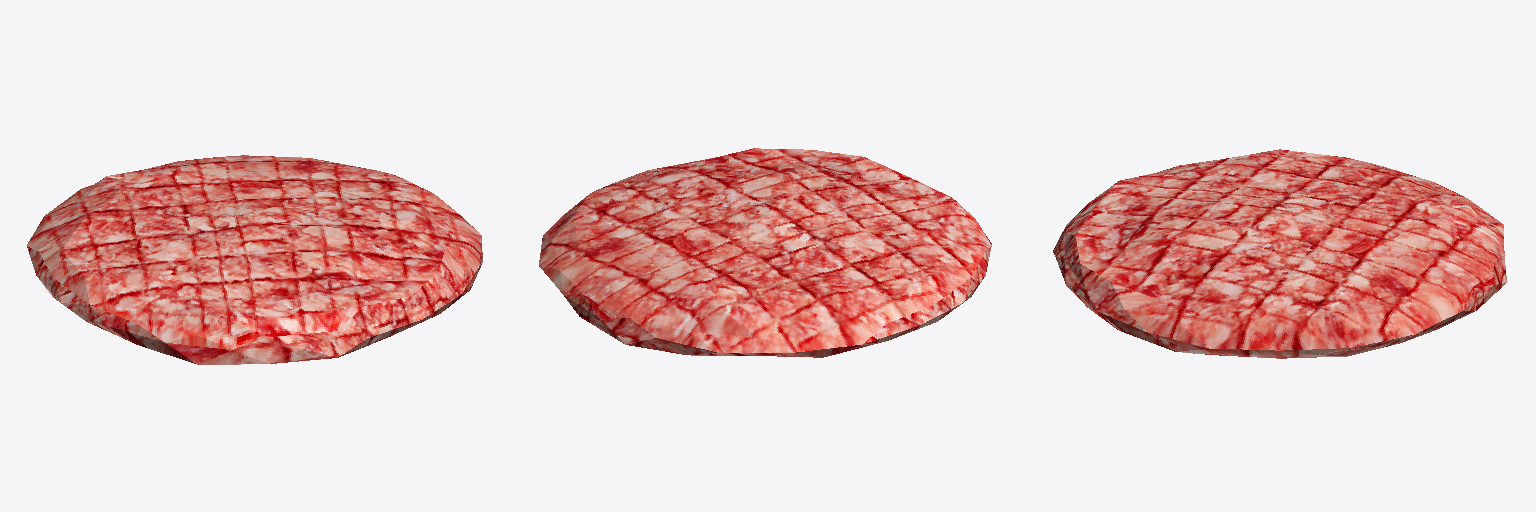
3 views of the same model, side by side, from view 1: azimuth 30°, elevation 25°; view 2: azimuth 150°, elevation 25°; view 3: azimuth 270°, elevation 25° (orthographic).
Parts seen in each view (by area): view 1: Icosphere; view 2: Icosphere; view 3: Icosphere.
Part boxes in pixels (bbox=[...]): Icosphere: bbox=[27, 155, 482, 364]; Icosphere: bbox=[539, 148, 991, 357]; Icosphere: bbox=[1053, 149, 1506, 358].
Size of the model in its own units: 2 by 0.3865 by 2.02.
Materials: 1 (1 with a texture image).